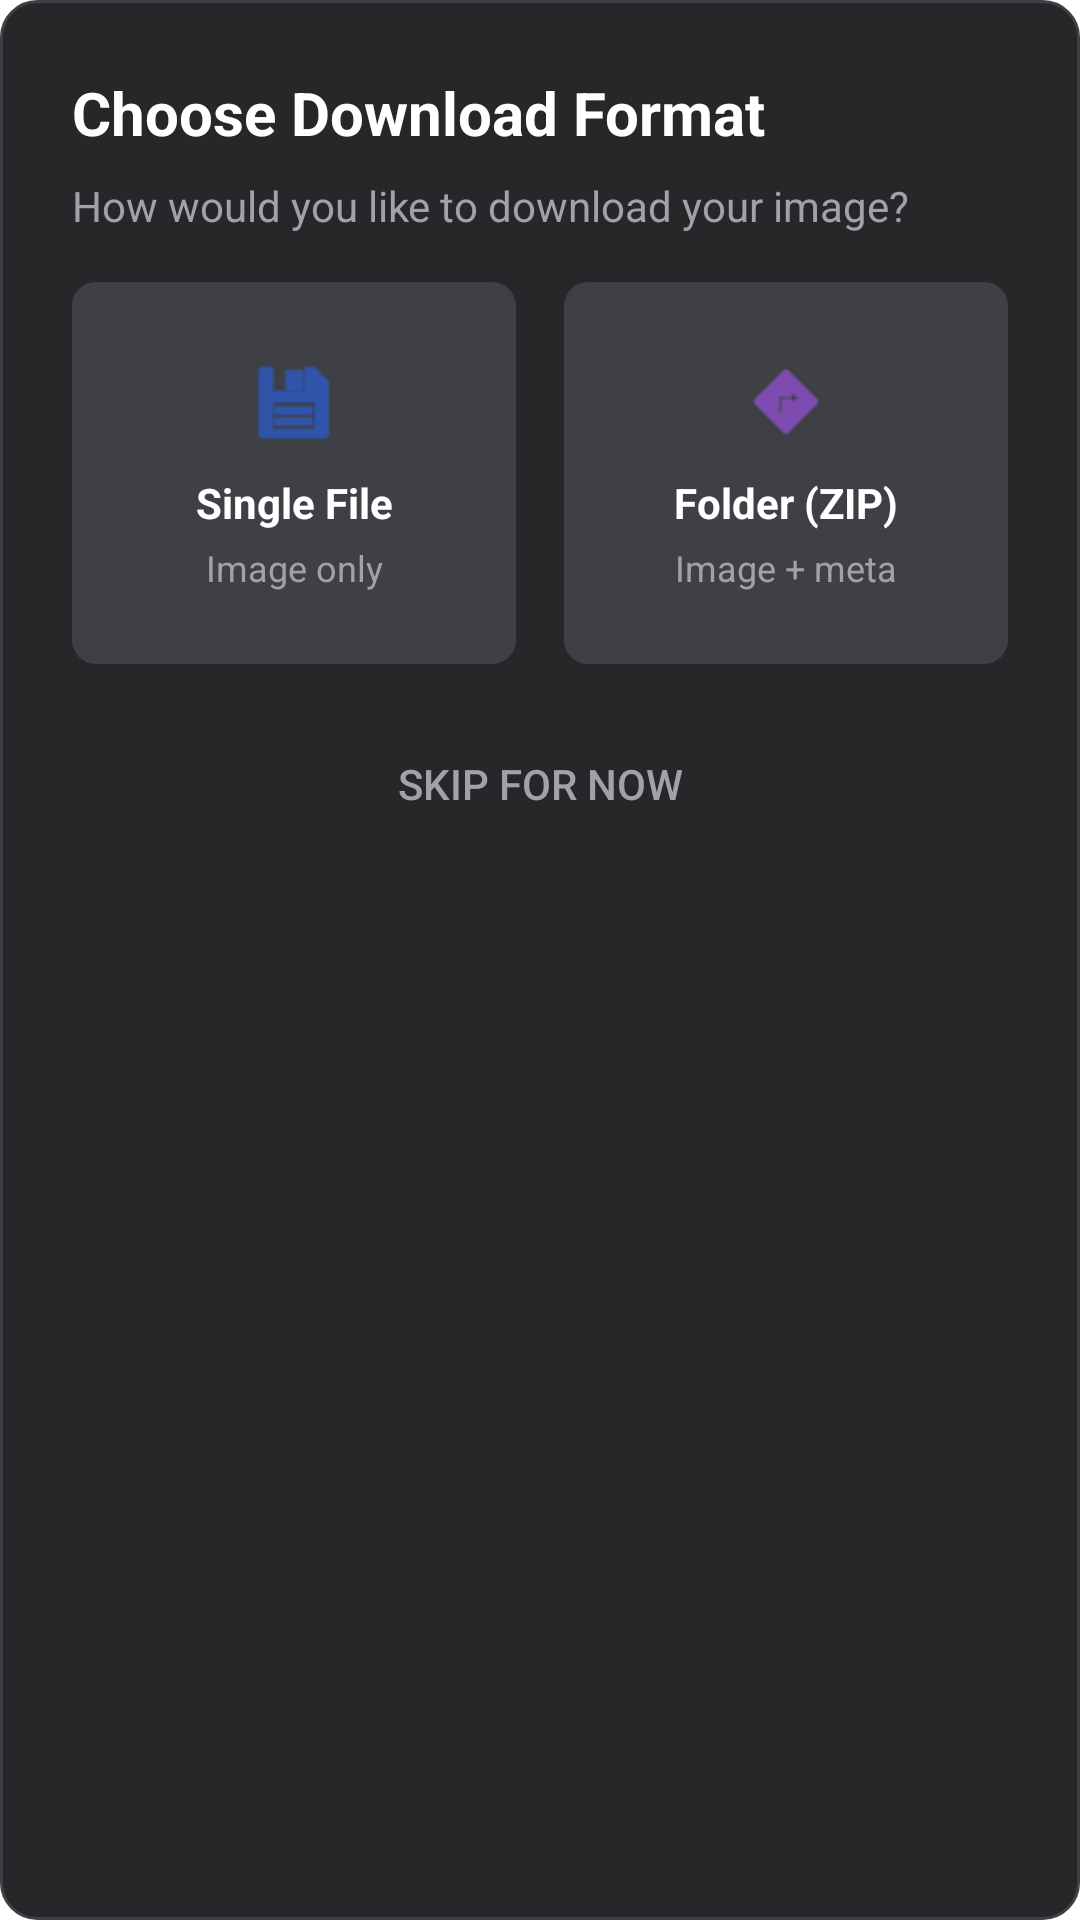

Locate icon controls on the screen. Image size 1080 x 1920, boxes as (x1, y1, x2, y2).
directions: (753, 369, 819, 434)
save: (258, 366, 330, 439)
